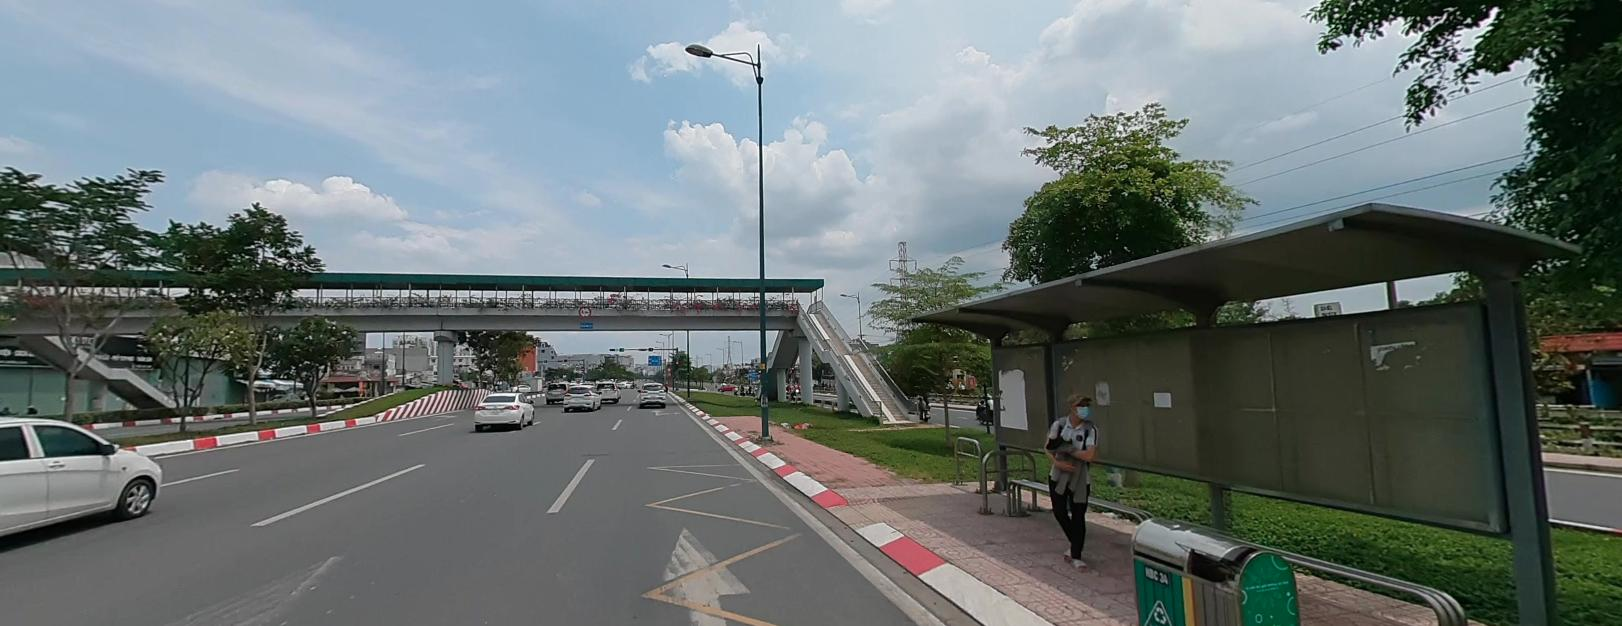Cam con lai: (578, 304, 591, 316), (578, 304, 590, 316), (579, 304, 591, 316), (579, 305, 590, 315)
Cam nguoc chieu: (580, 365, 583, 368)
Hieu lenh: (581, 370, 584, 373)
